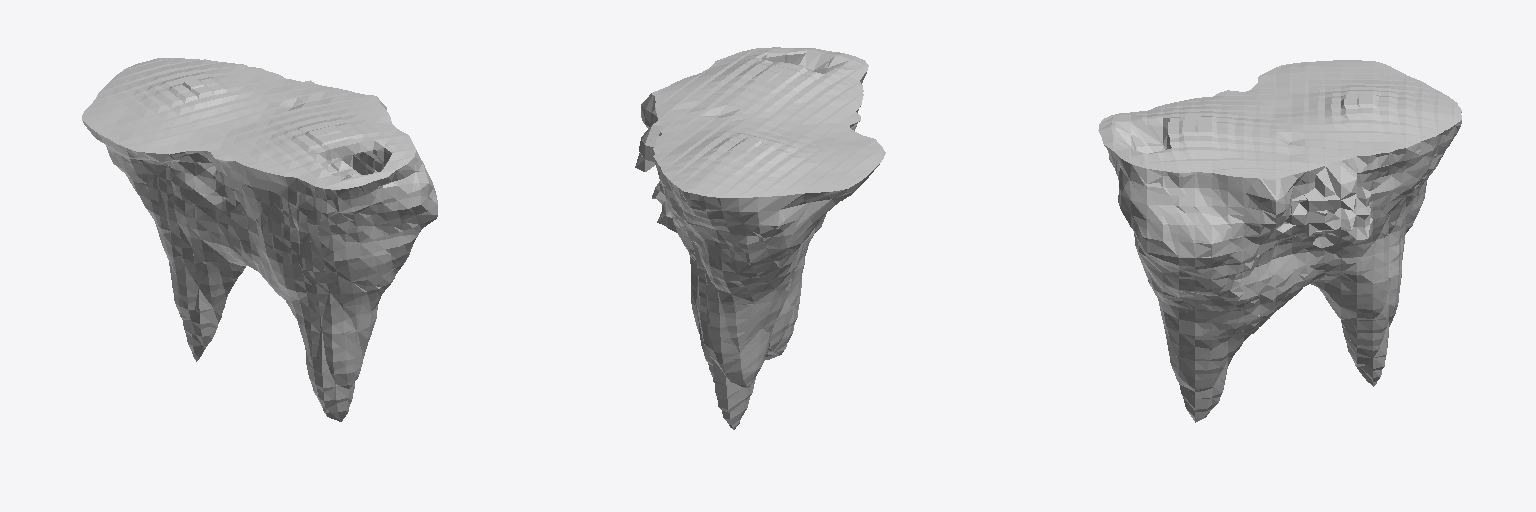
Rendered from Island_Large.obj.
3 views of the same model, side by side, from view 1: azimuth 30°, elevation 25°; view 2: azimuth 150°, elevation 25°; view 3: azimuth 270°, elevation 25° (orthographic).
Parts seen in each view (by area): view 1: Mesh; view 2: Mesh; view 3: Mesh.
Boxes of the visible parts, box(x1,y1,x2,y2) form: Mesh: box(82, 58, 437, 421); Mesh: box(635, 47, 885, 429); Mesh: box(1098, 60, 1461, 422).
Size of the model in its own units: 18.46 by 19.92 by 22.52.